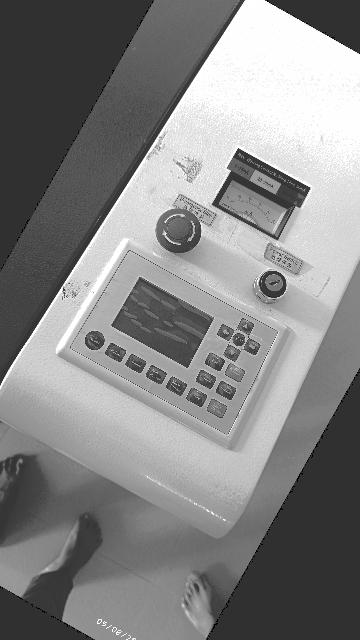Amp_Meter: (219, 180, 287, 235)
Display: (111, 278, 213, 368)
Down_button: (224, 345, 241, 362)
Emergency_Stop: (155, 208, 201, 254)
Enter_button: (225, 364, 245, 382)
Esc_button: (205, 353, 225, 371)
File_button: (187, 388, 207, 407)
Frame_button: (216, 381, 236, 400)
Left_button: (217, 324, 234, 341)
Max-Power_button: (166, 377, 187, 396)
Min-Power_button: (146, 366, 167, 384)
Origin_button: (196, 370, 216, 389)
Power_switch: (253, 270, 287, 304)
Pulse_button: (105, 343, 126, 362)
Reset_button: (85, 331, 104, 350)
Right_button: (244, 339, 260, 355)
Speed_button: (125, 354, 146, 373)
Start-Pause_button: (207, 400, 227, 418)
Up_button: (237, 318, 254, 335)
Z_U_button: (233, 333, 245, 346)
